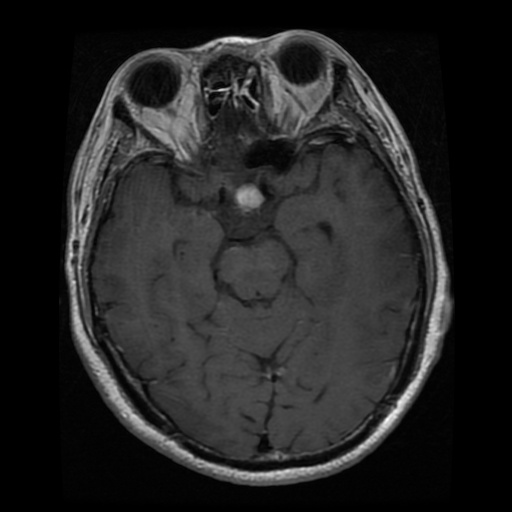pituitary: (235, 183, 261, 209)
